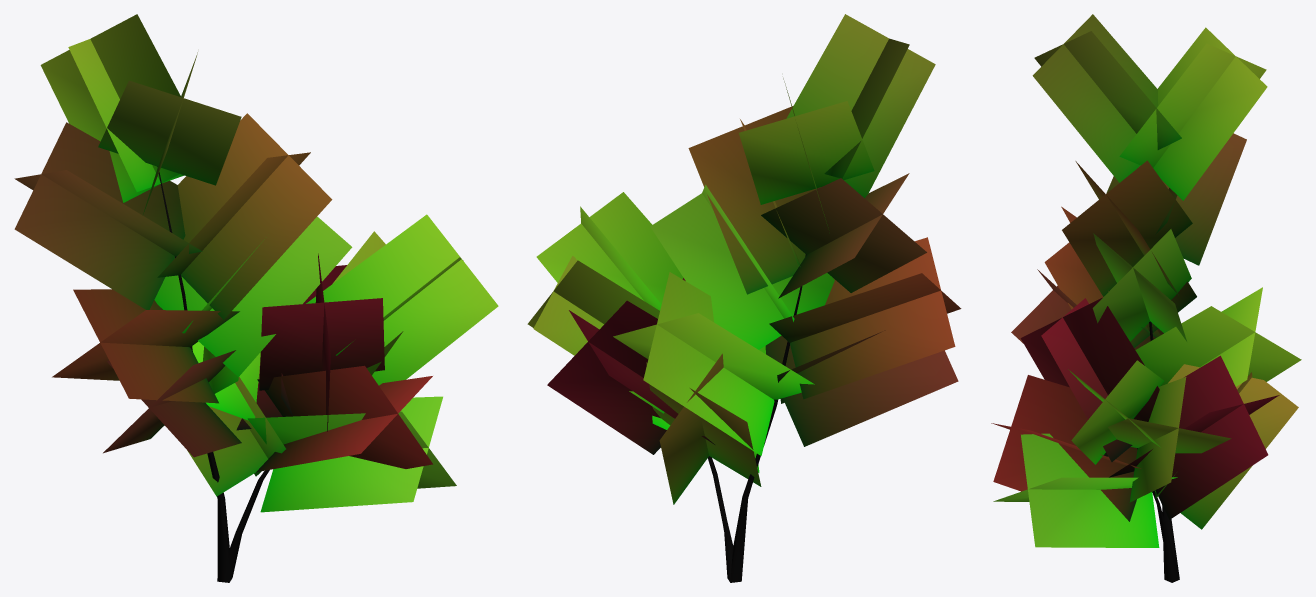
Rendered from SuperTree_8.fbx.
3 views of the same model, side by side, from view 1: azimuth 30°, elevation 25°; view 2: azimuth 150°, elevation 25°; view 3: azimuth 270°, elevation 25° (orthographic). The views are drawn at different scales.
Visible parts, largest first — view 1: SuperTree_8; view 2: SuperTree_8; view 3: SuperTree_8.
Boxes of the visible parts, bbox=[...] form: SuperTree_8: bbox=[14, 14, 498, 582]; SuperTree_8: bbox=[527, 14, 961, 582]; SuperTree_8: bbox=[991, 14, 1301, 582].
Bounding box in the file's own units: 712 × 918 × 501.
